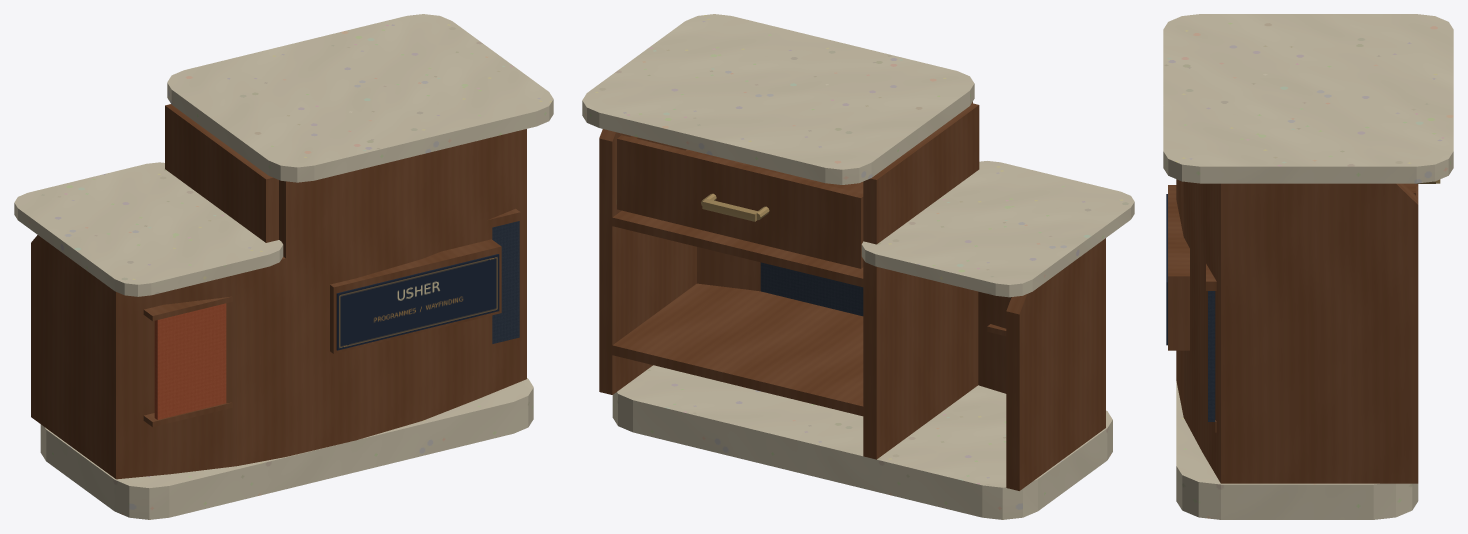
File: AST-CUL-002.glb
3 renders of one model, left to right at view 1: azimuth 30°, elevation 25°; view 2: azimuth 150°, elevation 25°; view 3: azimuth 270°, elevation 25°, orthographic. The views are drawn at different scales.
Parts seen in each view (by area): view 1: AST-CUL-002__AST-CUL-002__warm_walnut, AST-CUL-002__AST-CUL-002__warm_stone, AST-CUL-002__AST-CUL-002__usher_original, AST-CUL-002__AST-CUL-002__auditorium_amber_velvet, AST-CUL-002__AST-CUL-002__auditorium_navy_fibre; view 2: AST-CUL-002__AST-CUL-002__warm_stone, AST-CUL-002__AST-CUL-002__warm_walnut, AST-CUL-002__USHER_DRAWER__warm_walnut, AST-CUL-002__AST-CUL-002__auditorium_navy_fibre, AST-CUL-002__USHER_DRAWER__champagne_metal; view 3: AST-CUL-002__AST-CUL-002__warm_walnut, AST-CUL-002__AST-CUL-002__warm_stone, AST-CUL-002__AST-CUL-002__auditorium_navy_fibre.
Boxes of the visible parts, left/top/right/bottom form: AST-CUL-002__AST-CUL-002__warm_walnut: left=31, top=104, right=526, bottom=479; AST-CUL-002__AST-CUL-002__warm_stone: left=14, top=14, right=553, bottom=519; AST-CUL-002__AST-CUL-002__usher_original: left=336, top=254, right=499, bottom=350; AST-CUL-002__AST-CUL-002__auditorium_amber_velvet: left=154, top=303, right=226, bottom=419; AST-CUL-002__AST-CUL-002__auditorium_navy_fibre: left=492, top=221, right=519, bottom=343; AST-CUL-002__AST-CUL-002__warm_stone: left=582, top=14, right=1134, bottom=519; AST-CUL-002__AST-CUL-002__warm_walnut: left=599, top=101, right=1105, bottom=490; AST-CUL-002__USHER_DRAWER__warm_walnut: left=617, top=135, right=863, bottom=268; AST-CUL-002__AST-CUL-002__auditorium_navy_fibre: left=760, top=262, right=863, bottom=316; AST-CUL-002__USHER_DRAWER__champagne_metal: left=701, top=193, right=769, bottom=221; AST-CUL-002__AST-CUL-002__warm_walnut: left=1168, top=179, right=1418, bottom=483; AST-CUL-002__AST-CUL-002__warm_stone: left=1163, top=14, right=1453, bottom=519; AST-CUL-002__AST-CUL-002__auditorium_navy_fibre: left=1208, top=291, right=1215, bottom=421.
Bounding box in the file's own units: 1.51 × 1.07 × 0.78.
Materials: 6 (6 with a texture image).
